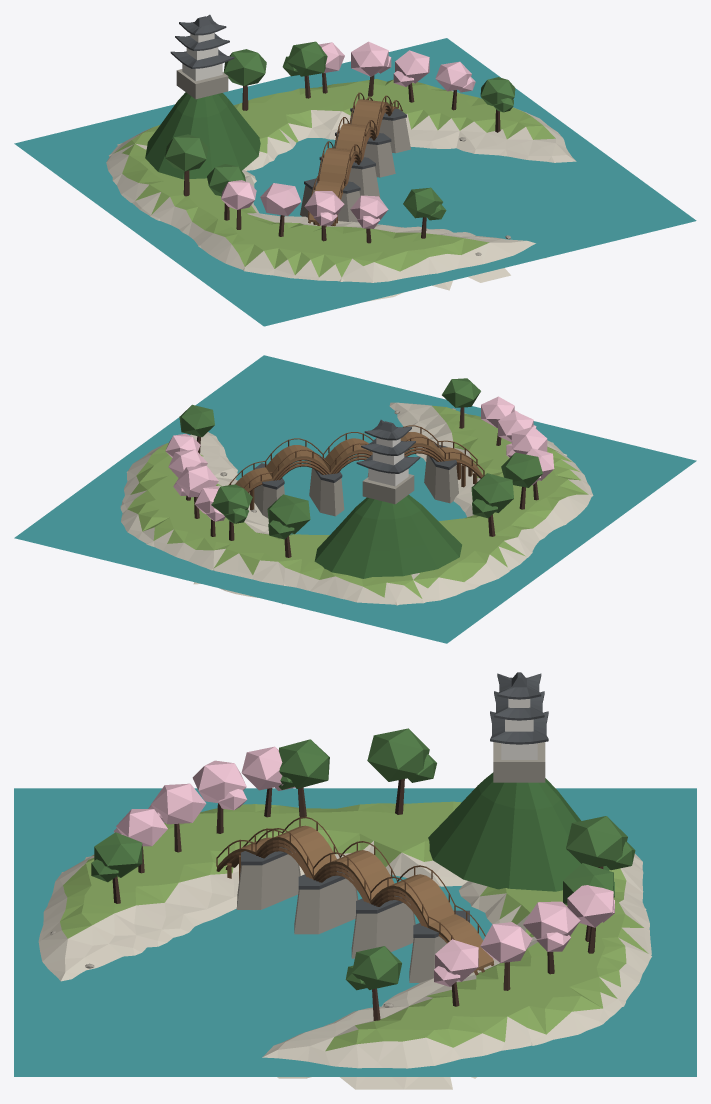
File: kintaikyo.glb
3 views of the same model, one above another, from view 1: azimuth 30°, elevation 25°; view 2: azimuth 150°, elevation 25°; view 3: azimuth 270°, elevation 25° (orthographic). The views are drawn at different scales.
Visible parts, largest first — view 1: kintaikyo_water, kintaikyo_terrain, kintaikyo_gravel, kintaikyo_blossom, kintaikyo_leaf, kintaikyo_forest, kintaikyo_stonewall, kintaikyo_deck, kintaikyo_tile, kintaikyo_bark, kintaikyo_wood, kintaikyo_white; view 2: kintaikyo_water, kintaikyo_terrain, kintaikyo_gravel, kintaikyo_forest, kintaikyo_leaf, kintaikyo_blossom, kintaikyo_stonewall, kintaikyo_wood, kintaikyo_deck, kintaikyo_tile, kintaikyo_bark, kintaikyo_white; view 3: kintaikyo_water, kintaikyo_terrain, kintaikyo_gravel, kintaikyo_blossom, kintaikyo_forest, kintaikyo_leaf, kintaikyo_stonewall, kintaikyo_deck, kintaikyo_tile, kintaikyo_wood, kintaikyo_bark, kintaikyo_white.
Part boxes in pixels (x1=…): kintaikyo_water: x1=14, y1=38, x2=696, y2=326; kintaikyo_terrain: x1=114, y1=79, x2=555, y2=277; kintaikyo_gravel: x1=106, y1=90, x2=576, y2=301; kintaikyo_blossom: x1=221, y1=41, x2=475, y2=228; kintaikyo_leaf: x1=165, y1=41, x2=515, y2=220; kintaikyo_forest: x1=145, y1=92, x2=260, y2=179; kintaikyo_stonewall: x1=176, y1=69, x2=510, y2=255; kintaikyo_deck: x1=308, y1=99, x2=398, y2=224; kintaikyo_tile: x1=170, y1=14, x2=406, y2=193; kintaikyo_bark: x1=183, y1=73, x2=500, y2=243; kintaikyo_wood: x1=308, y1=92, x2=402, y2=226; kintaikyo_white: x1=182, y1=32, x2=222, y2=81; kintaikyo_water: x1=14, y1=355, x2=696, y2=643; kintaikyo_terrain: x1=127, y1=405, x2=588, y2=598; kintaikyo_gravel: x1=120, y1=402, x2=593, y2=605; kintaikyo_forest: x1=314, y1=494, x2=461, y2=578; kintaikyo_leaf: x1=179, y1=378, x2=542, y2=539; kintaikyo_blossom: x1=165, y1=396, x2=554, y2=521; kintaikyo_stonewall: x1=220, y1=408, x2=458, y2=517; kintaikyo_wood: x1=228, y1=425, x2=484, y2=510; kintaikyo_deck: x1=235, y1=432, x2=483, y2=491; kintaikyo_tile: x1=254, y1=419, x2=456, y2=489; kintaikyo_bark: x1=186, y1=407, x2=538, y2=557; kintaikyo_white: x1=368, y1=437, x2=408, y2=486; kintaikyo_water: x1=14, y1=788, x2=696, y2=1076; kintaikyo_terrain: x1=60, y1=801, x2=648, y2=1051; kintaikyo_gravel: x1=38, y1=822, x2=651, y2=1089; kintaikyo_blossom: x1=113, y1=746, x2=614, y2=986; kintaikyo_forest: x1=428, y1=772, x2=609, y2=891; kintaikyo_leaf: x1=91, y1=728, x2=635, y2=990; kintaikyo_stonewall: x1=50, y1=742, x2=545, y2=1007; kintaikyo_deck: x1=217, y1=825, x2=493, y2=972; kintaikyo_tile: x1=241, y1=672, x2=548, y2=937; kintaikyo_wood: x1=216, y1=816, x2=493, y2=975; kintaikyo_bark: x1=112, y1=779, x2=603, y2=1020; kintaikyo_white: x1=501, y1=698, x2=537, y2=759.
Bounding box in the file's own units: 22.4 × 7.65 × 22.4.
